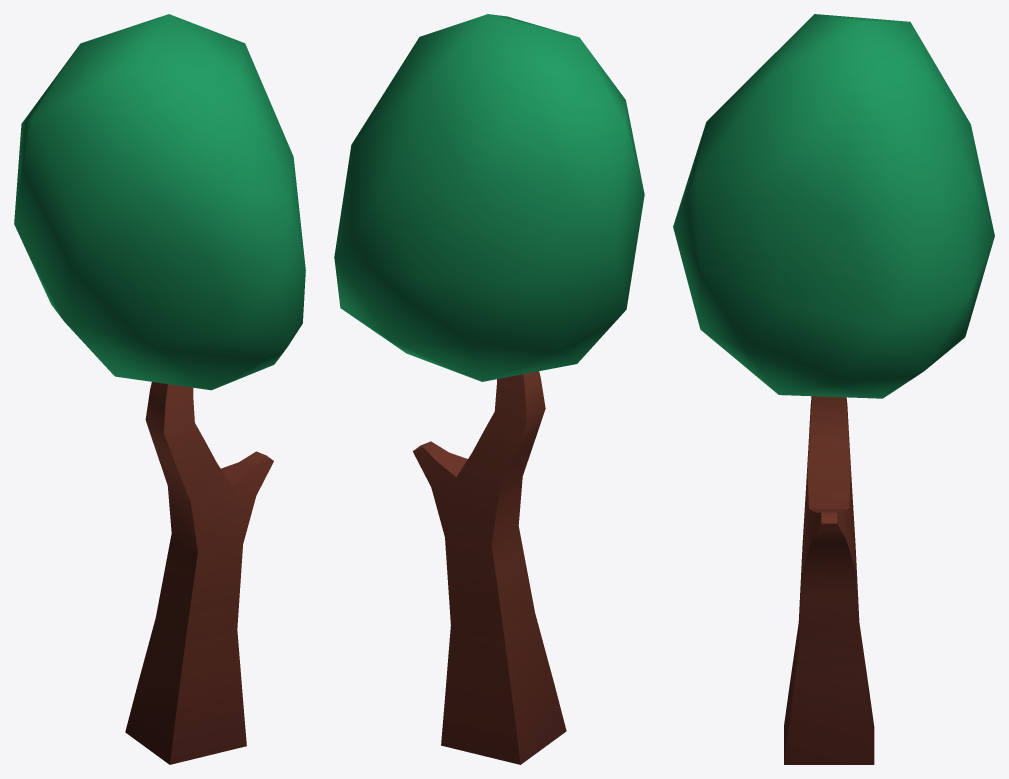
File: m_bg_tree_01.fbx
3 views of the same model, side by side, from view 1: azimuth 30°, elevation 25°; view 2: azimuth 150°, elevation 25°; view 3: azimuth 270°, elevation 25° (orthographic). The views are drawn at different scales.
Visible parts, largest first — view 1: m_bg_tree_01; view 2: m_bg_tree_01; view 3: m_bg_tree_01.
Boxes of the visible parts, x1,y1,x2,y2 form: m_bg_tree_01: (14,14,305,764); m_bg_tree_01: (334,14,644,764); m_bg_tree_01: (673,14,994,764).
Size of the model in its own units: 191 by 483 by 195.
